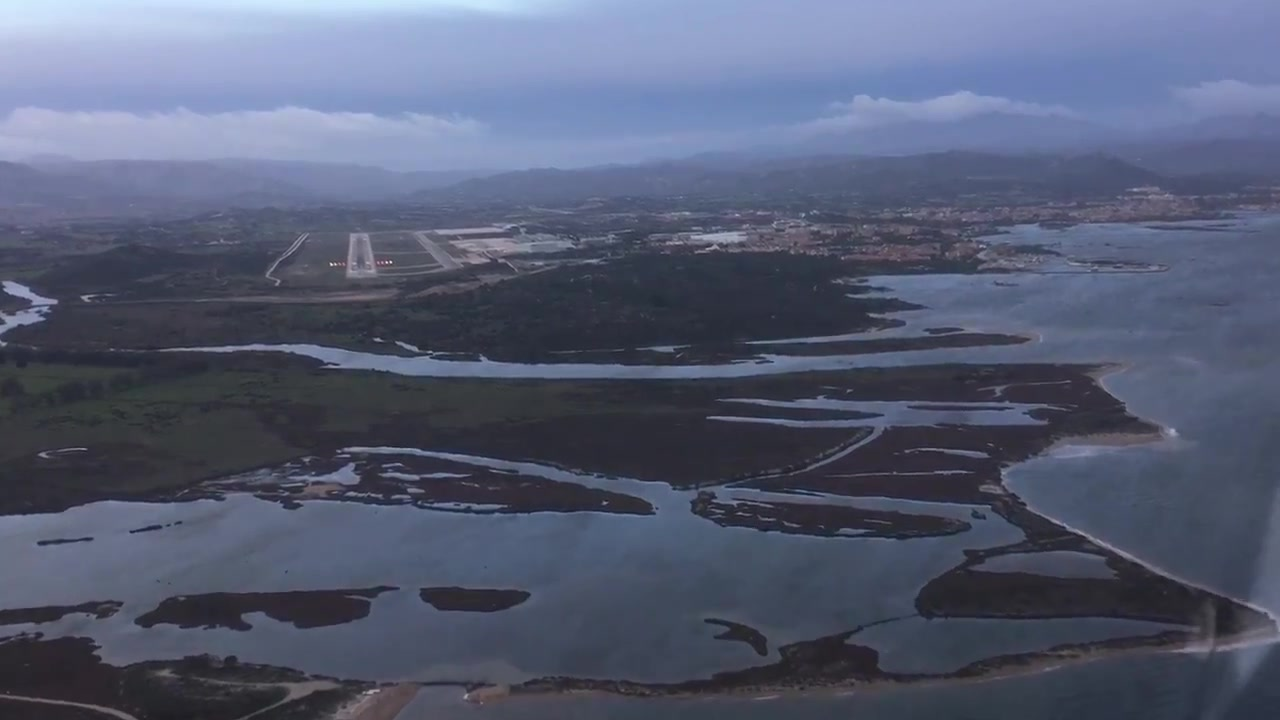runway: (345, 232, 379, 277)
